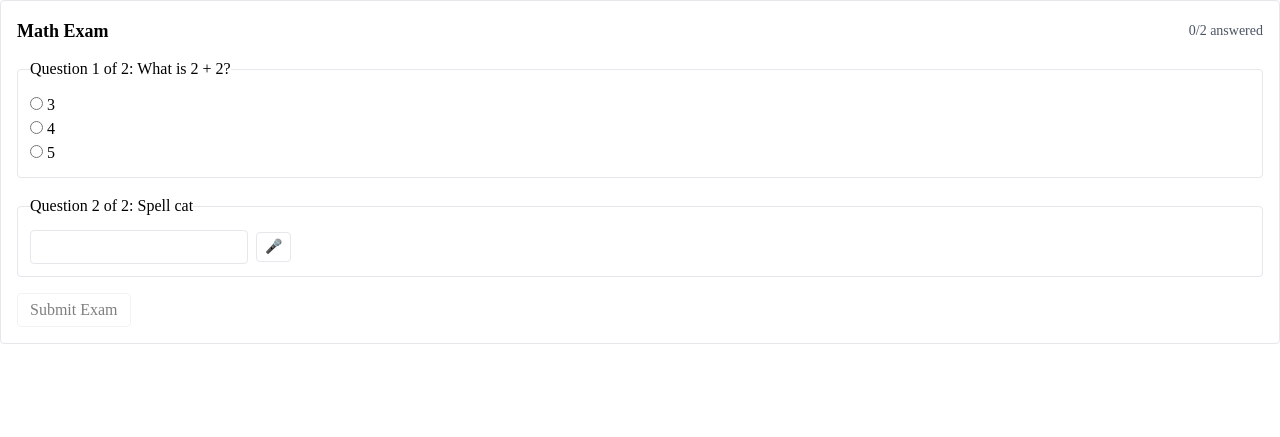
Test: Exam › grades incorrect answers as a fail and shows the correct answer
Click the radio button labelled "3". click: (36, 104)
box: [30,97,43,110]
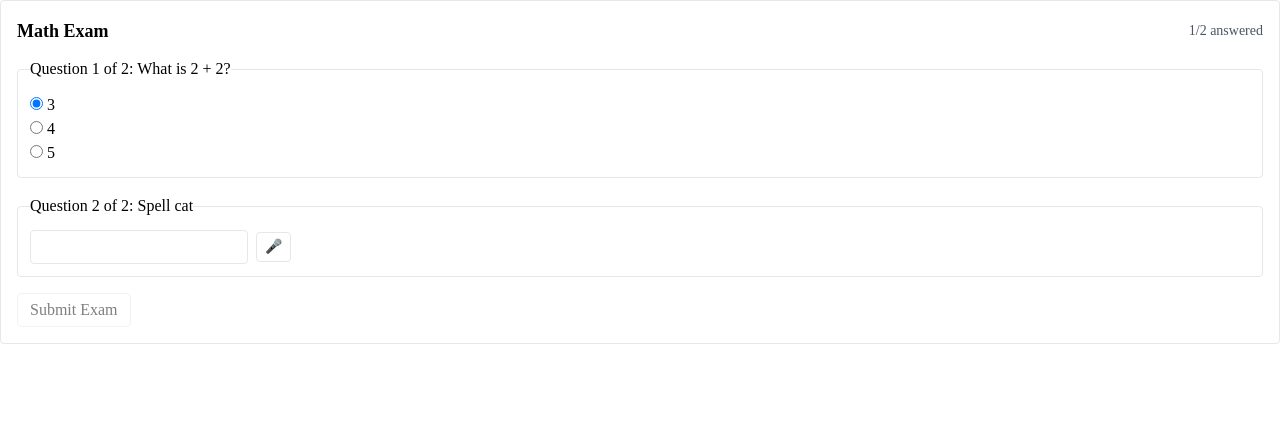
Type "dog" into the field named "Spell cat". click: (139, 247)
box: [30,230,248,264]
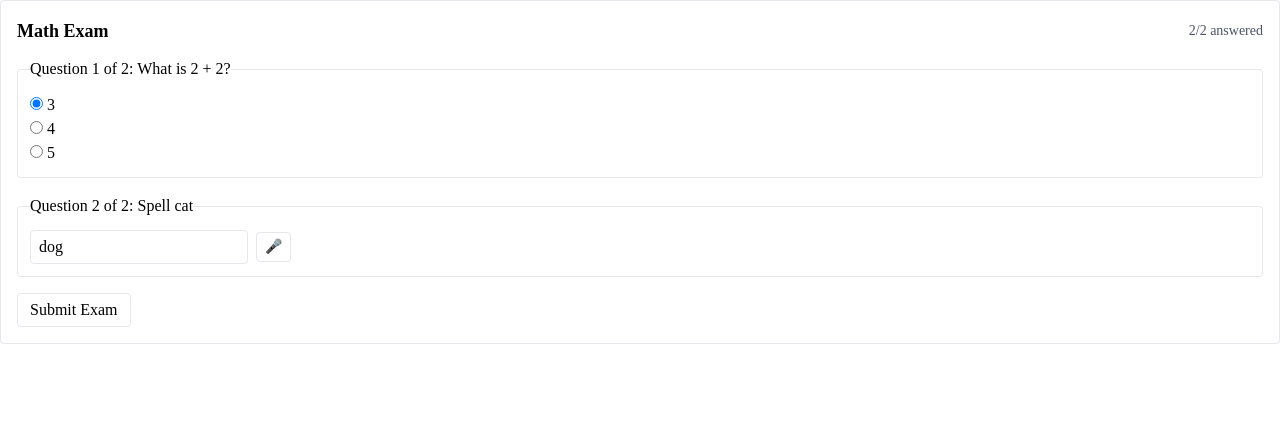
Click the button "Submit Exam". click: (74, 310)
box: [17,293,131,327]
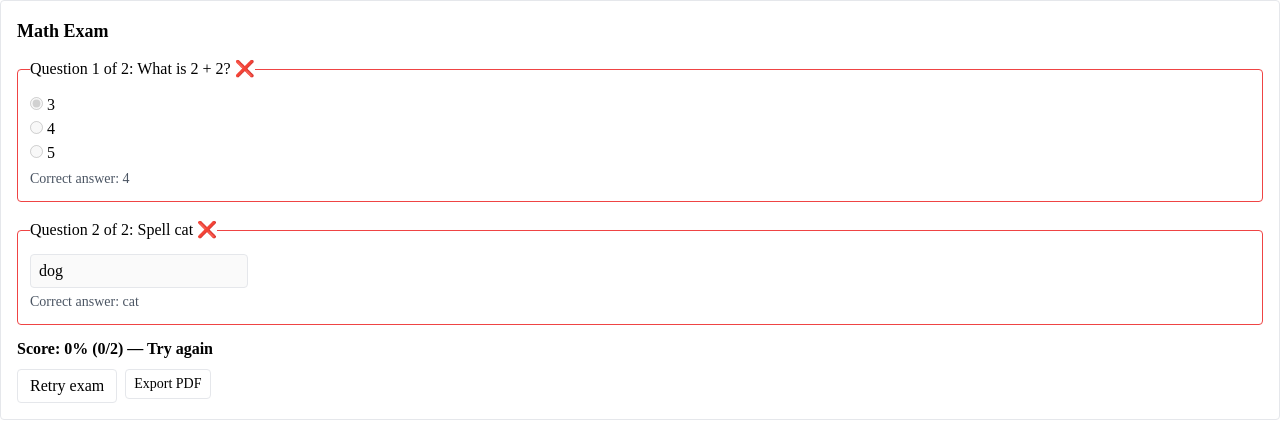
Now the text "Score: 0% (0/2) — Try again" is shown, box [17,340,213,357]
Now the text "Correct answer: 4" is shown 2 times, box [30,171,130,186]; [30,294,139,309]
